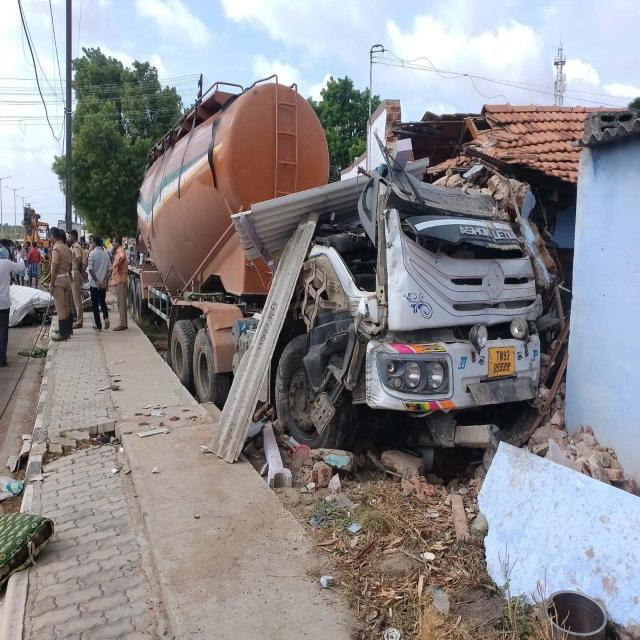accident: (130, 78, 541, 461)
